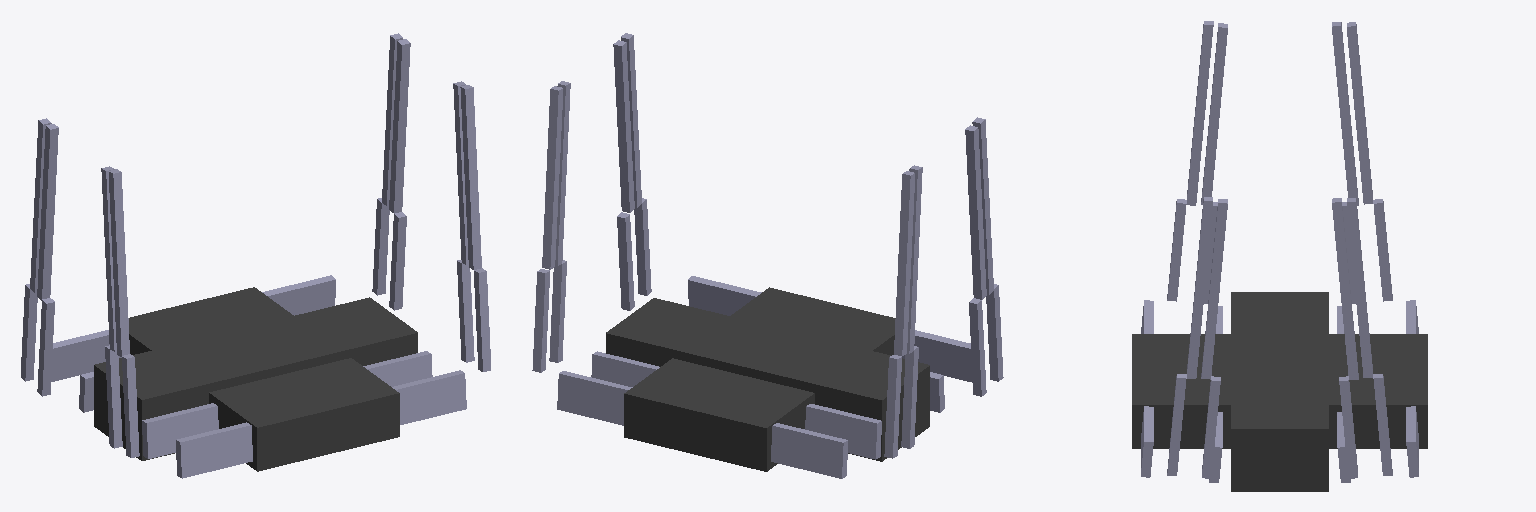
--- Render facts (derived) ---
3 views of the same robot in one strip: view 1: azimuth 30°, elevation 25°; view 2: azimuth 150°, elevation 25°; view 3: azimuth 270°, elevation 25° (orthographic).
Robot: quadruped — 27 links, 26 joints (8 revolute, 8 continuous, 10 fixed); root link base_chassis_link; default pose: all joints at 0.
Visible links, largest first — view 1: base_chassis_link, chassis_right, chassis_left, lower_leg_back_rightR_link, lower_leg_front_rightR_link, lower_leg_back_leftR_link, lower_leg_front_leftR_link, upper_leg_back_rightR_link, upper_leg_front_rightR_link, lower_leg_back_leftL_link, lower_leg_back_rightL_link, lower_leg_front_leftL_link (+7 smaller); view 2: base_chassis_link, chassis_left, chassis_right, lower_leg_back_leftL_link, lower_leg_front_leftL_link, lower_leg_back_rightL_link, lower_leg_front_rightL_link, lower_leg_back_rightR_link, lower_leg_back_leftR_link, upper_leg_back_leftL_link, upper_leg_front_leftL_link, lower_leg_front_rightR_link (+7 smaller); view 3: base_chassis_link, chassis_right, chassis_left, lower_leg_back_rightR_link, lower_leg_front_leftR_link, lower_leg_front_rightR_link, lower_leg_back_leftL_link, lower_leg_front_rightL_link, lower_leg_front_leftL_link, lower_leg_back_leftR_link, lower_leg_back_rightL_link, upper_leg_front_rightR_link (+5 smaller).
Boxes of the visible links, left/top/right/bottom form: base_chassis_link: left=94, top=287, right=417, bottom=471; chassis_right: left=142, top=351, right=466, bottom=478; chassis_left: left=51, top=275, right=335, bottom=412; lower_leg_back_rightR_link: left=109, top=169, right=129, bottom=356; lower_leg_front_rightR_link: left=460, top=85, right=481, bottom=269; lower_leg_back_leftR_link: left=37, top=124, right=58, bottom=300; lower_leg_front_leftR_link: left=389, top=39, right=410, bottom=213; upper_leg_back_rightR_link: left=122, top=354, right=139, bottom=457; upper_leg_front_rightR_link: left=474, top=268, right=490, bottom=371; lower_leg_back_leftL_link: left=30, top=118, right=51, bottom=292; lower_leg_back_rightL_link: left=101, top=166, right=116, bottom=351; lower_leg_front_leftL_link: left=382, top=33, right=402, bottom=205; base_chassis_link: left=606, top=287, right=929, bottom=471; chassis_left: left=557, top=351, right=881, bottom=478; chassis_right: left=688, top=276, right=972, bottom=412; lower_leg_back_leftL_link: left=894, top=171, right=914, bottom=355; lower_leg_front_leftL_link: left=542, top=86, right=562, bottom=269; lower_leg_back_rightL_link: left=965, top=125, right=986, bottom=299; lower_leg_front_rightL_link: left=613, top=40, right=634, bottom=212; lower_leg_back_rightR_link: left=972, top=117, right=993, bottom=294; lower_leg_back_leftR_link: left=907, top=165, right=922, bottom=353; upper_leg_back_leftL_link: left=884, top=355, right=901, bottom=458; upper_leg_front_leftL_link: left=532, top=269, right=549, bottom=372; lower_leg_front_rightR_link: left=621, top=33, right=641, bottom=207; base_chassis_link: left=1132, top=292, right=1427, bottom=491; chassis_right: left=1141, top=300, right=1222, bottom=482; chassis_left: left=1337, top=300, right=1418, bottom=482; lower_leg_back_rightR_link: left=1186, top=21, right=1213, bottom=205; lower_leg_front_leftR_link: left=1332, top=198, right=1358, bottom=379; lower_leg_front_rightR_link: left=1187, top=197, right=1212, bottom=378; lower_leg_back_leftL_link: left=1347, top=22, right=1372, bottom=204; lower_leg_front_rightL_link: left=1201, top=199, right=1227, bottom=379; lower_leg_front_leftL_link: left=1347, top=198, right=1372, bottom=377; lower_leg_back_leftR_link: left=1332, top=22, right=1358, bottom=205; lower_leg_back_rightL_link: left=1201, top=23, right=1227, bottom=204; upper_leg_front_rightR_link: left=1167, top=374, right=1186, bottom=475.
Size in the robot's own frame: 0.43 by 0.3 by 0.3508 metres.
Meshes: 1 distinct files referenced, 0 mesh visuals loaded (none loaded); not drawn: 8 (reference not matched to a file when rendering).

The robot description file, URDF, robot "quadruped":
<?xml version="1.0" ?>
<!-- ======================================================================= -->
<!--LICENSE:                                                                 -->
<!--Copyright (c) 2017, Erwin Coumans                                        -->
<!--Google Inc.                                                              -->
<!--All rights reserved.                                                     -->
<!--                                                                         -->
<!--Redistribution and use in source and binary forms, with or without       -->
<!--modification, are permitted provided that the following conditions are   -->
<!--met:                                                                     -->
<!--                                                                         -->
<!--1. Redistributions or derived work must retain this copyright notice,    -->
<!--   this list of conditions and the following disclaimer.                 -->
<!--                                                                         -->
<!--2. Redistributions in binary form must reproduce the above copyright     -->
<!--   notice, this list of conditions and the following disclaimer in the   -->
<!--   documentation and/or other materials provided with the distribution.  -->
<!--                                                                         -->
<!--THIS SOFTWARE IS PROVIDED BY THE COPYRIGHT HOLDERS AND CONTRIBUTORS "AS  -->
<!--IS" AND ANY EXPRESS OR IMPLIED WARRANTIES, INCLUDING, BUT NOT LIMITED TO,-->
<!--THE IMPLIED WARRANTIES OF MERCHANTABILITY AND FITNESS FOR A PARTICULAR   -->
<!--PURPOSE ARE DISCLAIMED. IN NO EVENT SHALL THE COPYRIGHT HOLDER OR        -->
<!--CONTRIBUTORS BE LIABLE FOR ANY DIRECT, INDIRECT, INCIDENTAL, SPECIAL,    -->
<!--EXEMPLARY, OR CONSEQUENTIAL DAMAGES (INCLUDING, BUT NOT LIMITED TO,      -->
<!--PROCUREMENT OF SUBSTITUTE GOODS OR SERVICES; LOSS OF USE, DATA, OR       -->
<!--PROFITS; OR BUSINESS INTERRUPTION) HOWEVER CAUSED AND ON ANY THEORY OF   -->
<!--LIABILITY, WHETHER IN CONTRACT, STRICT LIABILITY, OR TORT (INCLUDING     -->
<!--NEGLIGENCE OR OTHERWISE) ARISING IN ANY WAY OUT OF THE USE OF THIS       -->
<!--SOFTWARE, EVEN IF ADVISED OF THE POSSIBILITY OF SUCH DAMAGE.             -->

<robot name="quadruped">
  <link name="base_chassis_link">
    <visual>
      <geometry>
        <box size=".33 0.10 .07"/>
      </geometry>
      <material name="black">
        <color rgba="0.3 0.3 0.3 1"/>
      </material>
    </visual>
    <visual>
			<origin rpy="0 0 0" xyz="0 0.10 0"/>
      <geometry>
        <box size=".17 0.10 .05"/>
      </geometry>
      <material name="black">
        <color rgba="0.3 0.3 0.3 1"/>
      </material>
    </visual>
		<visual>
			<origin rpy="0 0 0" xyz="0 -0.10 0"/>
      <geometry>
        <box size=".17 0.10 .05"/>
      </geometry>
      <material name="black">
        <color rgba="0.3 0.3 0.3 1"/>
      </material>
    </visual>

    <collision>
      <geometry>
       <box size=".33 0.10 .07"/>
      </geometry>
    </collision>
    <collision>
			<origin rpy="0 0 0" xyz="0 0.10 0"/>
      <geometry>
       <box size=".17 0.10 .05"/>
      </geometry>
    </collision>
    <collision>
			<origin rpy="0 0 0" xyz="0 -0.10 0"/>
      <geometry>
       <box size=".17 0.10 .05"/>
      </geometry>
    </collision>

    <inertial>
      <mass value="3"/>
      <inertia ixx="1.0" ixy="0.0" ixz="0.0" iyy="1.0" iyz="0.0" izz="1.0"/>
    </inertial>
  </link>

  <link name="chassis_right">
    <visual>
			<origin rpy="0 0 0" xyz="0 0.035 0"/>
      <geometry>
       <box size=".34 0.01 .04"/>
      </geometry>
			<material name="grey">
        <color rgba="0.65 0.65 0.75 1"/>
      </material>    </visual>
    <visual>
			<origin rpy="0 0 0" xyz="0 -0.035 0"/>
      <geometry>
       <box size=".34 0.01 .04"/>
      </geometry>
			<material name="grey">
        <color rgba="0.65 0.65 0.75 1"/>
      </material>    </visual>
    <collision>
			<origin rpy="0 0 0" xyz="0 0.035 0"/>
      <geometry>
       <box size=".34 0.01 .04"/>
      </geometry>
    </collision>
    <collision>
			<origin rpy="0 0 0" xyz="0 -0.035 0"/>
      <geometry>
       <box size=".34 0.01 .04"/>
      </geometry>
    </collision>
    <inertial>
      <mass value=".1"/>
      <inertia ixx="1.0" ixy="0.0" ixz="0.0" iyy="1.0" iyz="0.0" izz="1.0"/>
    </inertial>
  </link>

  <joint name="chassis_right_center" type="fixed">
    <axis xyz="0 0 1"/>
    <parent link="base_chassis_link"/>
    <child link="chassis_right"/>
    <origin rpy="-0.0872665 0 0" xyz="0.0 -0.10 0.0"/>
    <limit effort="100" velocity="100"/>
    <joint_properties damping="0.0" friction="0.0"/>
  </joint>

  <link name="chassis_left">
    <visual>
			<origin rpy="0 0 0" xyz="0 0.035 0"/>
      <geometry>
       <box size=".34 0.01 .04"/>
      </geometry>
			<material name="grey">
        <color rgba="0.65 0.65 0.75 1"/>
      </material>    </visual>
    <visual>
			<origin rpy="0 0 0" xyz="0 -0.035 0"/>
      <geometry>
       <box size=".34 0.01 .04"/>
      </geometry>
			<material name="grey">
        <color rgba="0.65 0.65 0.75 1"/>
      </material>    </visual>
    <collision>
			<origin rpy="0 0 0" xyz="0 0.035 0"/>
      <geometry>
       <box size=".34 0.01 .04"/>
      </geometry>
    </collision>
    <collision>
			<origin rpy="0 0 0" xyz="0 -0.035 0"/>
      <geometry>
       <box size=".34 0.01 .04"/>
      </geometry>
    </collision>
    <inertial>
      <mass value=".1"/>
      <inertia ixx="1.0" ixy="0.0" ixz="0.0" iyy="1.0" iyz="0.0" izz="1.0"/>
    </inertial>
  </link>

  <joint name="chassis_left_center" type="fixed">
    <axis xyz="0 0 1"/>
    <parent link="base_chassis_link"/>
    <child link="chassis_left"/>
    <origin rpy="0.0872665 0 0" xyz="0.0 0.10 0.0"/>
    <limit effort="100" velocity="100"/>
    <joint_properties damping="0.0" friction="0.0"/>
  </joint>

  
  
  <link name="motor_front_rightR_link">
    <visual>
      <geometry>
        <mesh filename="meshes/tmotor3.obj" scale="1 1 1"/>
      </geometry>
      <material name="white">
        <color rgba="1 1 1 1"/>
      </material>
    </visual>
    <collision>
      <geometry>
        <cylinder length="0.026" radius="0.0434"/>
      </geometry>
    </collision>
    <inertial>
      <mass value="0.25"/>
      <inertia ixx="1.0" ixy="0.0" ixz="0.0" iyy="1.0" iyz="0.0" izz="1.0"/>
    </inertial>
  </link>
  <joint name="motor_front_rightR_joint" type="continuous">
    <axis xyz="0 0 1"/>
    <parent link="chassis_right"/>
    <child link="motor_front_rightR_link"/>
    <origin rpy="1.57075 0 0" xyz="0.21 -0.025 0"/>
    <limit effort="100" velocity="100"/>
    <joint_properties damping="0.0" friction="0.0"/>
  </joint>


	<link name="motor_front_rightL_link">
    <visual>
      <geometry>
        <mesh filename="meshes/tmotor3.obj" scale="1 1 1"/>
      </geometry>
      <material name="white">
        <color rgba="1 1 1 1"/>
      </material>
    </visual>
    <collision>
      <geometry>
        <cylinder length="0.026" radius="0.0434"/>
      </geometry>
    </collision>
    <inertial>
      <mass value="0.25"/>
      <inertia ixx="1.0" ixy="0.0" ixz="0.0" iyy="1.0" iyz="0.0" izz="1.0"/>
    </inertial>
  </link>
  <joint name="motor_front_rightL_joint" type="continuous">
    <axis xyz="0 0 1"/>
    <parent link="chassis_right"/>
    <child link="motor_front_rightL_link"/>
    <origin rpy="1.57075 0 3.141592" xyz="0.21 0.04 0"/>
    <limit effort="100" velocity="100"/>
    <joint_properties damping="0.0" friction="0.0"/>
  </joint>
  
  
  <link name="motor_front_leftL_link">
    <visual>
      <geometry>
        <mesh filename="meshes/tmotor3.obj" scale="1 1 1"/>
      </geometry>
      <material name="white">
        <color rgba="1 1 1 1"/>
      </material>
    </visual>
    <collision>
      <geometry>
        <cylinder length="0.026" radius="0.0434"/>
      </geometry>
    </collision>
    <inertial>
      <mass value="0.25"/>
      <inertia ixx="1.0" ixy="0.0" ixz="0.0" iyy="1.0" iyz="0.0" izz="1.0"/>
    </inertial>
  </link>
  <joint name="motor_front_leftL_joint" type="continuous">
    <axis xyz="0 0 1"/>
    <parent link="chassis_left"/>
    <child link="motor_front_leftL_link"/>
    <origin rpy="1.57075 0 3.141592" xyz="0.21 0.025 0"/>
    <limit effort="100" velocity="100"/>
    <joint_properties damping="0.0" friction="0.0"/>
  </joint>


	<link name="motor_front_leftR_link">
    <visual>
      <geometry>
        <mesh filename="meshes/tmotor3.obj" scale="1 1 1"/>
      </geometry>
      <material name="white">
        <color rgba="1 1 1 1"/>
      </material>
    </visual>
    <inertial>
      <mass value="0.25"/>
      <inertia ixx="1.0" ixy="0.0" ixz="0.0" iyy="1.0" iyz="0.0" izz="1.0"/>
    </inertial>
  </link>
  <joint name="motor_front_leftR_joint" type="continuous">
    <axis xyz="0 0 1"/>
    <parent link="chassis_left"/>
    <child link="motor_front_leftR_link"/>
    <origin rpy="1.57075 0 0" xyz="0.21 -0.04 0"/>
    <limit effort="100" velocity="100"/>
    <joint_properties damping="0.0" friction="0.0"/>
  </joint>
  
  
  <link name="motor_back_rightR_link">
    <visual>
      <geometry>
        <mesh filename="meshes/tmotor3.obj" scale="1 1 1"/>
      </geometry>
      <material name="white">
        <color rgba="1 1 1 1"/>
      </material>
    </visual>
    <collision>
      <geometry>
        <cylinder length="0.026" radius="0.0434"/>
      </geometry>
    </collision>
    <inertial>
      <mass value="0.25"/>
      <inertia ixx="1.0" ixy="0.0" ixz="0.0" iyy="1.0" iyz="0.0" izz="1.0"/>
    </inertial>
  </link>
  <joint name="motor_back_rightR_joint" type="continuous">
    <axis xyz="0 0 1"/>
    <parent link="chassis_right"/>
    <child link="motor_back_rightR_link"/>
    <origin rpy="1.57075 0 0" xyz="-0.21 -0.025 0"/>
    <limit effort="100" velocity="100"/>
    <joint_properties damping="0.0" friction="0.0"/>
  </joint>


	<link name="motor_back_rightL_link">
    <visual>
      <geometry>
        <mesh filename="meshes/tmotor3.obj" scale="1 1 1"/>
      </geometry>
      <material name="white">
        <color rgba="1 1 1 1"/>
      </material>
    </visual>
    <collision>
      <geometry>
        <cylinder length="0.026" radius="0.0434"/>
      </geometry>
    </collision>
    <inertial>
      <mass value="0.25"/>
      <inertia ixx="1.0" ixy="0.0" ixz="0.0" iyy="1.0" iyz="0.0" izz="1.0"/>
    </inertial>
  </link>
  <joint name="motor_back_rightL_joint" type="continuous">
    <axis xyz="0 0 1"/>
    <parent link="chassis_right"/>
    <child link="motor_back_rightL_link"/>
    <origin rpy="1.57075 0 3.141592" xyz="-0.21 0.04 0"/>
    <limit effort="100" velocity="100"/>
    <joint_properties damping="0.0" friction="0.0"/>
  </joint>
  
  
  <link name="motor_back_leftL_link">
    <visual>
      <geometry>
        <mesh filename="meshes/tmotor3.obj" scale="1 1 1"/>
      </geometry>
      <material name="white">
        <color rgba="1 1 1 1"/>
      </material>
    </visual>
    <collision>
      <geometry>
        <cylinder length="0.026" radius="0.0434"/>
      </geometry>
    </collision>
    <inertial>
      <mass value="0.25"/>
      <inertia ixx="1.0" ixy="0.0" ixz="0.0" iyy="1.0" iyz="0.0" izz="1.0"/>
    </inertial>
  </link>
  <joint name="motor_back_leftL_joint" type="continuous">
    <axis xyz="0 0 1"/>
    <parent link="chassis_left"/>
    <child link="motor_back_leftL_link"/>
    <origin rpy="1.57075 0 3.141592" xyz="-0.21 0.025 0"/>
    <limit effort="100" velocity="100"/>
    <joint_properties damping="0.0" friction="0.0"/>
  </joint>


	<link name="motor_back_leftR_link">
    <visual>
      <geometry>
        <mesh filename="meshes/tmotor3.obj" scale="1 1 1"/>
      </geometry>
      <material name="white">
        <color rgba="1 1 1 1"/>
      </material>
    </visual>
    <collision>
      <geometry>
        <cylinder length="0.026" radius="0.0434"/>
      </geometry>
    </collision>
    <inertial>
      <mass value="0.25"/>
      <inertia ixx="1.0" ixy="0.0" ixz="0.0" iyy="1.0" iyz="0.0" izz="1.0"/>
    </inertial>
  </link>
  <joint name="motor_back_leftR_joint" type="continuous">
    <axis xyz="0 0 1"/>
    <parent link="chassis_left"/>
    <child link="motor_back_leftR_link"/>
    <origin rpy="1.57075 0 0" xyz="-0.21 -0.04 0"/>
    <limit effort="100" velocity="100"/>
    <joint_properties damping="0.0" friction="0.0"/>
  </joint>

	<link name="upper_leg_front_rightR_link">
    <visual>
      <geometry>
        <box size=".01 0.01 .11"/>
      </geometry>
      <material name="grey">
        <color rgba="0.65 0.65 0.75 1"/>
      </material>
    </visual>
    <collision>
      <geometry>
        <box size=".01 0.01 .11"/>
      </geometry>
    </collision>
    <inertial>
      <mass value="0.05"/>
      <inertia ixx="1.0" ixy="0.0" ixz="0.0" iyy="1.0" iyz="0.0" izz="1.0"/>
    </inertial>
  </link>
  <joint name="hip_front_rightR_link" type="fixed">
    <axis xyz="0 0 1"/>
    <parent link="motor_front_rightR_link"/>
    <child link="upper_leg_front_rightR_link"/>
    <origin rpy="-1.57075 0 0" xyz="0.0 0.06 -0.015"/>
    <limit effort="100" velocity="100"/>
    <joint_properties damping="0.0" friction="0.0"/>
  </joint>

	<link name="lower_leg_front_rightR_link">
	<contact>
		<stiffness value="10000"/>
		<damping value="10"/>
		<lateral_friction value="1"/>
  </contact>

    <visual>
    	<origin rpy="0.0 0 0" xyz="0 0 .1"/>
      <geometry>
        <box size=".01 0.01 .2"/>
      </geometry>
      <material name="grey">
        <color rgba="0.65 0.65 0.75 1"/>
      </material>
    </visual>
    <collision>
    	<origin rpy="0.0 0 0" xyz="0 0 .1"/>
      <geometry>
        <box size=".01 0.01 .2"/>
      </geometry>
    </collision>
    <inertial>
      <mass value="0.05"/>
      <inertia ixx="1.0" ixy="0.0" ixz="0.0" iyy="1.0" iyz="0.0" izz="1.0"/>
    </inertial>
  </link>
  <joint name="knee_front_rightR_link" type="revolute">
    <axis xyz="0 1 0"/>
    <parent link="upper_leg_front_rightR_link"/>
    <child link="lower_leg_front_rightR_link"/>
    <origin rpy="0 0 0" xyz="0.0 0.01 .055"/>
    <limit effort="100" velocity="100"/>
    <joint_properties damping="0.0" friction="0.0"/>
  </joint>

    
  <link name="upper_leg_front_rightL_link">
    <visual>
      <geometry>
        <box size=".01 0.01 .11"/>
      </geometry>
      <material name="grey">
        <color rgba="0.65 0.65 0.75 1"/>
      </material>
    </visual>
    <collision>
      <geometry>
        <box size=".01 0.01 .11"/>
      </geometry>
    </collision>
    <inertial>
      <mass value="0.05"/>
      <inertia ixx="1.0" ixy="0.0" ixz="0.0" iyy="1.0" iyz="0.0" izz="1.0"/>
    </inertial>
  </link>
  <joint name="motor_front_rightL_link" type="fixed">
    <axis xyz="0 0 1"/>
    <parent link="motor_front_rightL_link"/>
    <child link="upper_leg_front_rightL_link"/>
    <origin rpy="-1.57075 0 0" xyz="0.0 0.06 -0.015"/>
    <limit effort="100" velocity="100"/>
    <joint_properties damping="0.0" friction="0.0"/>
  </joint>

  

  
  <link name="lower_leg_front_rightL_link">
	<contact>
		<stiffness value="10000"/>
		<damping value="10"/>
		<lateral_friction value="1"/>
  </contact>

    <visual>
    	<origin rpy="0.0 0 0" xyz="0 0 .1"/>
      <geometry>
        <box size=".01 0.01 .198"/>
      </geometry>
      <material name="grey">
        <color rgba="0.65 0.65 0.75 1"/>
      </material>
    </visual>
    <collision>
    	<origin rpy="0.0 0 0" xyz="0 0 .1"/>
      <geometry>
        <box size=".01 0.01 .198"/>
      </geometry>
    </collision>
    <inertial>
      <mass value="0.05"/>
      <inertia ixx="1.0" ixy="0.0" ixz="0.0" iyy="1.0" iyz="0.0" izz="1.0"/>
    </inertial>
  </link>
  <joint name="knee_front_rightL_link" type="revolute">
    <axis xyz="0 1 0"/>
    <parent link="upper_leg_front_rightL_link"/>
    <child link="lower_leg_front_rightL_link"/>
    <origin rpy="0 0 0" xyz="0.0 0.01 .055"/>
    <limit effort="100" velocity="100"/>
    <joint_properties damping="0.0" friction="0.0"/>
  </joint>


	<link name="upper_leg_front_leftR_link">
    <visual>
      <geometry>
        <box size=".01 0.01 .11"/>
      </geometry>
      <material name="grey">
        <color rgba="0.65 0.65 0.75 1"/>
      </material>
    </visual>
    <collision>
      <geometry>
        <box size=".01 0.01 .11"/>
      </geometry>
    </collision>
    <inertial>
      <mass value="0.05"/>
      <inertia ixx="1.0" ixy="0.0" ixz="0.0" iyy="1.0" iyz="0.0" izz="1.0"/>
    </inertial>
  </link>
  <joint name="hip_front_leftR_link" type="fixed">
    <axis xyz="0 0 1"/>
    <parent link="motor_front_leftR_link"/>
    <child link="upper_leg_front_leftR_link"/>
    <origin rpy="-1.57075 0 0" xyz="0.0 0.06 -0.015"/>
    <limit effort="100" velocity="100"/>
    <joint_properties damping="0.0" friction="0.0"/>
  </joint>


	<link name="lower_leg_front_leftR_link">
	<contact>
		<stiffness value="10000"/>
		<damping value="10"/>
		<lateral_friction value="1"/>
  </contact>

    <visual>
    	<origin rpy="0.0 0.0 0" xyz="0 0 .1"/>
      <geometry>
        <box size=".01 0.01 .2"/>
      </geometry>
      <material name="grey">
        <color rgba="0.65 0.65 0.75 1"/>
      </material>
    </visual>
    <collision>
    	<origin rpy="0.0 0.0 0" xyz="0 0 .1"/>
      <geometry>
        <box size=".01 0.01 .2"/>
      </geometry>
    </collision>
    <inertial>
      <mass value="0.05"/>
      <inertia ixx="1.0" ixy="0.0" ixz="0.0" iyy="1.0" iyz="0.0" izz="1.0"/>
    </inertial>
  </link>
  <joint name="knee_front_leftR_link" type="revolute">
    <axis xyz="0 1 0"/>
    <parent link="upper_leg_front_leftR_link"/>
    <child link="lower_leg_front_leftR_link"/>
    <origin rpy="0 0 0" xyz="0.0 0.01 .055"/>
    <limit effort="100" velocity="100"/>
    <joint_properties damping="0.0" friction="0.0"/>
  </joint>



   <link name="upper_leg_front_leftL_link">
    <visual>
      <geometry>
        <box size=".01 0.01 .11"/>
      </geometry>
      <material name="grey">
        <color rgba="0.65 0.65 0.75 1"/>
      </material>
    </visual>
    <collision>
      <geometry>
        <box size=".01 0.01 .11"/>
      </geometry>
    </collision>
    <inertial>
      <mass value="0.05"/>
      <inertia ixx="1.0" ixy="0.0" ixz="0.0" iyy="1.0" iyz="0.0" izz="1.0"/>
    </inertial>
  </link>
  <joint name="motor_front_leftL_link" type="fixed">
    <axis xyz="0 0 1"/>
    <parent link="motor_front_leftL_link"/>
    <child link="upper_leg_front_leftL_link"/>
    <origin rpy="-1.57075 0 0" xyz="0.0 0.06 -0.015"/>
    <limit effort="100" velocity="100"/>
    <joint_properties damping="0.0" friction="0.0"/>
  </joint>


  <link name="lower_leg_front_leftL_link">
	<contact>
		<stiffness value="10000"/>
		<damping value="10"/>
		<lateral_friction value="1"/>
  </contact>

    <visual>
    	<origin rpy="0.0 0.0 0" xyz="0 0 .1"/>
      <geometry>
        <box size=".01 0.01 .198"/>
      </geometry>
      <material name="grey">
        <color rgba="0.65 0.65 0.75 1"/>
      </material>
    </visual>
    <collision>
    	<origin rpy="0.0 0.0 0" xyz="0 0 .1"/>
      <geometry>
        <box size=".01 0.01 .198"/>
      </geometry>
    </collision>
    <inertial>
      <mass value="0.05"/>
      <inertia ixx="1.0" ixy="0.0" ixz="0.0" iyy="1.0" iyz="0.0" izz="1.0"/>
    </inertial>
  </link>
  <joint name="knee_front_leftL_link" type="revolute">
    <axis xyz="0 1 0"/>
    <parent link="upper_leg_front_leftL_link"/>
    <child link="lower_leg_front_leftL_link"/>
    <origin rpy="0 0 0" xyz="0.0 0.01 .055"/>
    <limit effort="100" velocity="100"/>
    <joint_properties damping="0.0" friction="0.0"/>
  </joint>
  
	<link name="upper_leg_back_rightR_link">
    <visual>
      <geometry>
        <box size=".01 0.01 .11"/>
      </geometry>
      <material name="grey">
        <color rgba="0.65 0.65 0.75 1"/>
      </material>
    </visual>
    <collision>
      <geometry>
        <box size=".01 0.01 .11"/>
      </geometry>
    </collision>
    <inertial>
      <mass value="0.05"/>
      <inertia ixx="1.0" ixy="0.0" ixz="0.0" iyy="1.0" iyz="0.0" izz="1.0"/>
    </inertial>
  </link>
  <joint name="hip_rightR_link" type="fixed">
    <axis xyz="0 0 1"/>
    <parent link="motor_back_rightR_link"/>
    <child link="upper_leg_back_rightR_link"/>
    <origin rpy="-1.57075 0 0" xyz="0.0 0.06 -0.015"/>
    <limit effort="100" velocity="100"/>
    <joint_properties damping="0.0" friction="0.0"/>
  </joint>

	<link name="lower_leg_back_rightR_link">
	<contact>
		<stiffness value="10000"/>
		<damping value="10"/>
		<lateral_friction value="1"/>
  </contact>

    <visual>
    	<origin rpy="0.0 0 0" xyz="0 0 .1"/>
      <geometry>
        <box size=".01 0.01 .2032"/>
      </geometry>
      <material name="grey">
        <color rgba="0.65 0.65 0.75 1"/>
      </material>
    </visual>
    <collision>
    	<origin rpy="0.0 0 0" xyz="0 0 .1"/>
      <geometry>
        <box size=".01 0.01 .2032"/>
      </geometry>
    </collision>
    <inertial>
      <mass value="0.05"/>
      <inertia ixx="1.0" ixy="0.0" ixz="0.0" iyy="1.0" iyz="0.0" izz="1.0"/>
    </inertial>
  </link>
  <joint name="knee_back_rightR_link" type="revolute">
    <axis xyz="0 1 0"/>
    <parent link="upper_leg_back_rightR_link"/>
    <child link="lower_leg_back_rightR_link"/>
    <origin rpy="0 0 0" xyz="0.0 0.01 .055"/>
    <limit effort="100" velocity="100"/>
    <joint_properties damping="0.0" friction="0.0"/>
  </joint>

    
  <link name="upper_leg_back_rightL_link">
    <visual>
      <geometry>
        <box size=".01 0.01 .11"/>
      </geometry>
      <material name="grey">
        <color rgba="0.65 0.65 0.75 1"/>
      </material>
    </visual>
    <collision>
      <geometry>
        <box size=".01 0.01 .11"/>
      </geometry>
    </collision>
    <inertial>
      <mass value="0.05"/>
      <inertia ixx="1.0" ixy="0.0" ixz="0.0" iyy="1.0" iyz="0.0" izz="1.0"/>
    </inertial>
  </link>
  <joint name="motor_back_rightL_link" type="fixed">
    <axis xyz="0 0 1"/>
    <parent link="motor_back_rightL_link"/>
    <child link="upper_leg_back_rightL_link"/>
    <origin rpy="-1.57075 0 0" xyz="0.0 0.06 -0.015"/>
    <limit effort="100" velocity="100"/>
    <joint_properties damping="0.0" friction="0.0"/>
  </joint>

  

  
  <link name="lower_leg_back_rightL_link">
	<contact>
		<stiffness value="10000"/>
		<damping value="10"/>
		<lateral_friction value="1"/>
  </contact>
  
    <visual>
    	<origin rpy="0.0 0 0" xyz="0 0 .1"/>
      <geometry>
        <box size=".01 0.01 .2"/>
      </geometry>
      <material name="grey">
        <color rgba="0.65 0.65 0.75 1"/>
      </material>
    </visual>
    <collision>
    	<origin rpy="0.0 0 0" xyz="0 0 .1"/>
      <geometry>
        <box size=".01 0.01 .2"/>
      </geometry>
    </collision>
    <inertial>
      <mass value="0.05"/>
      <inertia ixx="1.0" ixy="0.0" ixz="0.0" iyy="1.0" iyz="0.0" izz="1.0"/>
    </inertial>
  </link>
  <joint name="knee_back_rightL_link" type="revolute">
    <axis xyz="0 1 0"/>
    <parent link="upper_leg_back_rightL_link"/>
    <child link="lower_leg_back_rightL_link"/>
    <origin rpy="0 0 0" xyz="0.0 0.01 .055"/>
    <limit effort="100" velocity="100"/>
    <joint_properties damping="0.0" friction="0.0"/>
  </joint>



	<link name="upper_leg_back_leftR_link">
    <visual>
      <geometry>
        <box size=".01 0.01 .11"/>
      </geometry>
      <material name="grey">
        <color rgba="0.65 0.65 0.75 1"/>
      </material>
    </visual>
    <collision>
      <geometry>
        <box size=".01 0.01 .11"/>
      </geometry>
    </collision>
    <inertial>
      <mass value="0.05"/>
      <inertia ixx="1.0" ixy="0.0" ixz="0.0" iyy="1.0" iyz="0.0" izz="1.0"/>
    </inertial>
  </link>
  <joint name="hip_leftR_link" type="fixed">
    <axis xyz="0 0 1"/>
    <parent link="motor_back_leftR_link"/>
    <child link="upper_leg_back_leftR_link"/>
    <origin rpy="-1.57075 0 0" xyz="0.0 0.06 -0.015"/>
    <limit effort="100" velocity="100"/>
    <joint_properties damping="0.0" friction="0.0"/>
  </joint>

<link name="lower_leg_back_leftR_link">
	<contact>
		<stiffness value="10000"/>
		<damping value="10"/>
		<lateral_friction value="1"/>
  </contact>

    <visual>
    	<origin rpy="0.0 0 0" xyz="0 0 .1"/>
      <geometry>
        <box size=".01 0.01 .2032"/>
      </geometry>
      <material name="grey">
        <color rgba="0.65 0.65 0.75 1"/>
      </material>
    </visual>
    <collision>
    	<origin rpy="0.0 0 0" xyz="0 0 .1"/>
      <geometry>
        <box size=".01 0.01 .2032"/>
      </geometry>
    </collision>
    <inertial>
      <mass value="0.05"/>
      <inertia ixx="1.0" ixy="0.0" ixz="0.0" iyy="1.0" iyz="0.0" izz="1.0"/>
    </inertial>
  </link>
  <joint name="knee_back_leftR_link" type="revolute">
    <axis xyz="0 1 0"/>
    <parent link="upper_leg_back_leftR_link"/>
    <child link="lower_leg_back_leftR_link"/>
    <origin rpy="0 0 0" xyz="0.0 0.01 .055"/>
    <limit effort="100" velocity="100"/>
    <joint_properties damping="0.0" friction="0.0"/>
  </joint>
  
   <link name="upper_leg_back_leftL_link">
    <visual>
      <geometry>
        <box size=".01 0.01 .11"/>
      </geometry>
      <material name="grey">
        <color rgba="0.65 0.65 0.75 1"/>
      </material>
    </visual>
    <collision>
      <geometry>
        <box size=".01 0.01 .11"/>
      </geometry>
    </collision>
    <inertial>
      <mass value="0.05"/>
      <inertia ixx="1.0" ixy="0.0" ixz="0.0" iyy="1.0" iyz="0.0" izz="1.0"/>
    </inertial>
  </link>
  <joint name="motor_back_leftL_link" type="fixed">
    <axis xyz="0 0 1"/>
    <parent link="motor_back_leftL_link"/>
    <child link="upper_leg_back_leftL_link"/>
    <origin rpy="-1.57075 0 0" xyz="0.0 0.06 -0.015"/>
    <limit effort="100" velocity="100"/>
    <joint_properties damping="0.0" friction="0.0"/>
  </joint>

 
  <link name="lower_leg_back_leftL_link">
	<contact>
		<stiffness value="10000"/>
		<damping value="10"/>
		<lateral_friction value="1"/>
  </contact>

    <visual>
    	<origin rpy="0.0 0 0" xyz="0 0 .1"/>
      <geometry>
        <box size=".01 0.01 .2"/>
      </geometry>
      <material name="grey">
        <color rgba="0.65 0.65 0.75 1"/>
      </material>
    </visual>
    <collision>
    	<origin rpy="0.0 0 0" xyz="0 0 .1"/>
      <geometry>
        <box size=".01 0.01 .2"/>
      </geometry>
    </collision>
    <inertial>
      <mass value="0.05"/>
      <inertia ixx="1.0" ixy="0.0" ixz="0.0" iyy="1.0" iyz="0.0" izz="1.0"/>
    </inertial>
  </link>
  <joint name="knee_back_leftL_link" type="revolute">
    <axis xyz="0 1 0"/>
    <parent link="upper_leg_back_leftL_link"/>
    <child link="lower_leg_back_leftL_link"/>
    <origin rpy="0 0 0" xyz="0.0 0.01 .055"/>
    <limit effort="100" velocity="100"/>
    <joint_properties damping="0.0" friction="0.0"/>
  </joint>
 
</robot>
